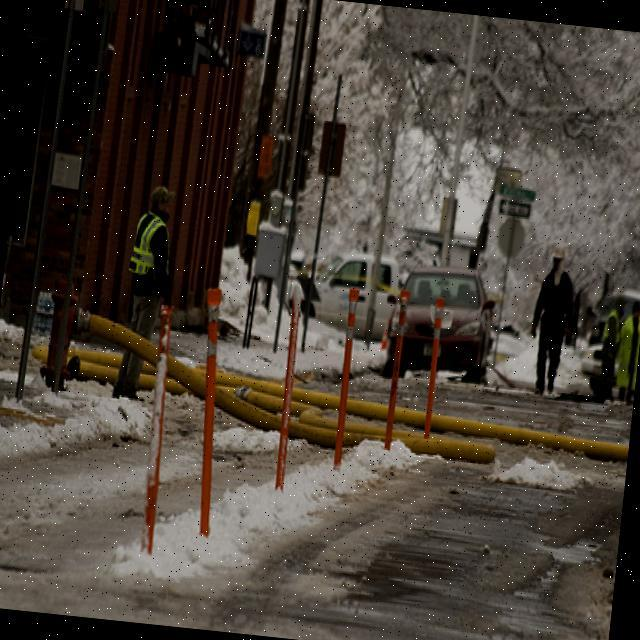fire_hydrant: (36, 273, 78, 385)
